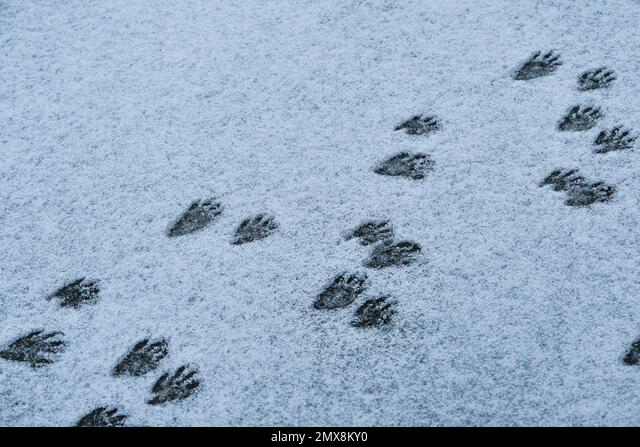raccoon: (341, 208, 424, 280), (2, 315, 72, 375), (368, 145, 453, 189), (379, 102, 449, 148), (310, 262, 370, 315), (166, 191, 227, 238), (116, 329, 170, 380), (150, 366, 209, 412), (51, 272, 104, 311), (358, 294, 400, 339), (231, 212, 279, 249)
